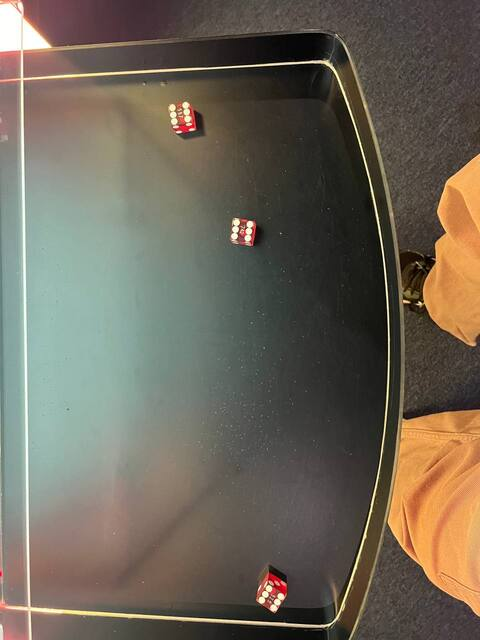six: (253, 582, 288, 615), (165, 98, 194, 128), (228, 215, 257, 244)
